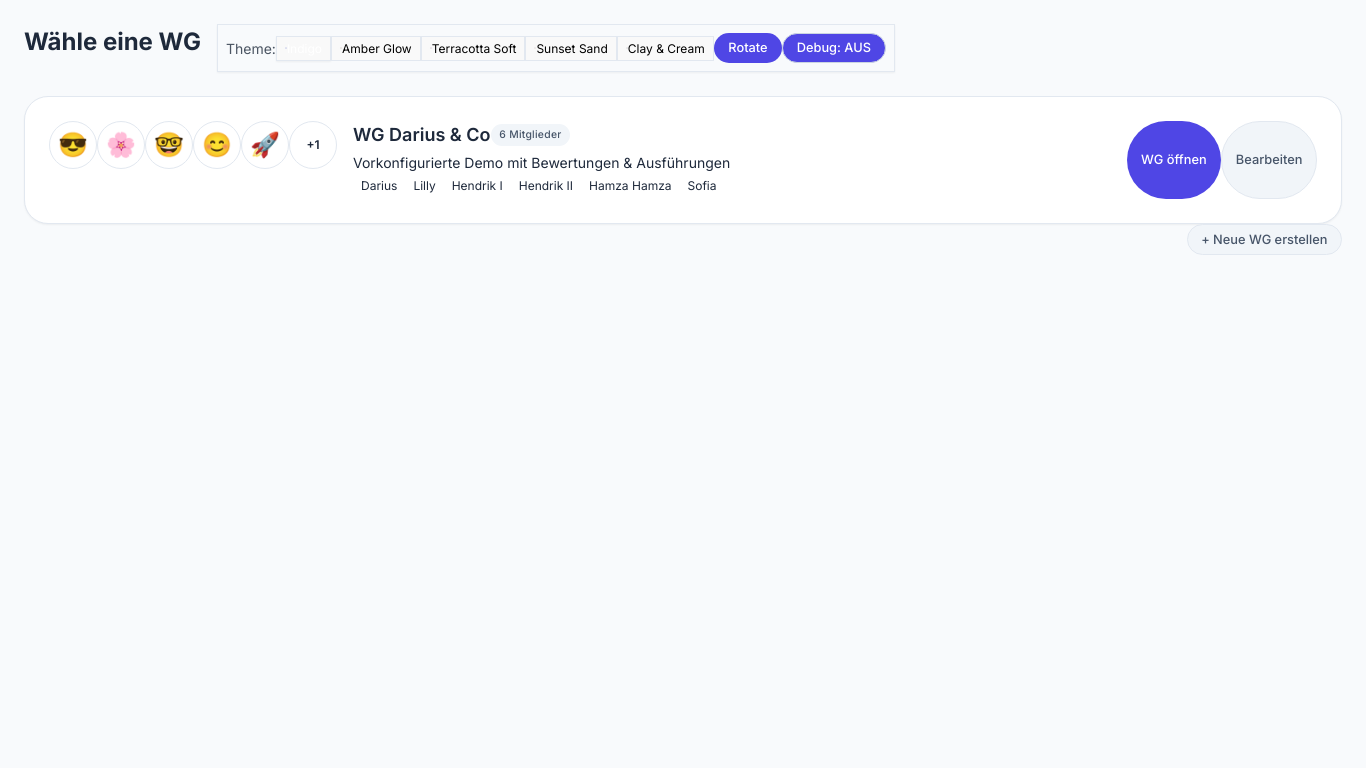
Profile Overview & Navigation Flow (WG zentriert) › öffnet Dashboard nach Klick auf WG öffnen
Click the button named "WG öffnen": [683, 160] box x1=24 y1=96 x2=1342 y2=224
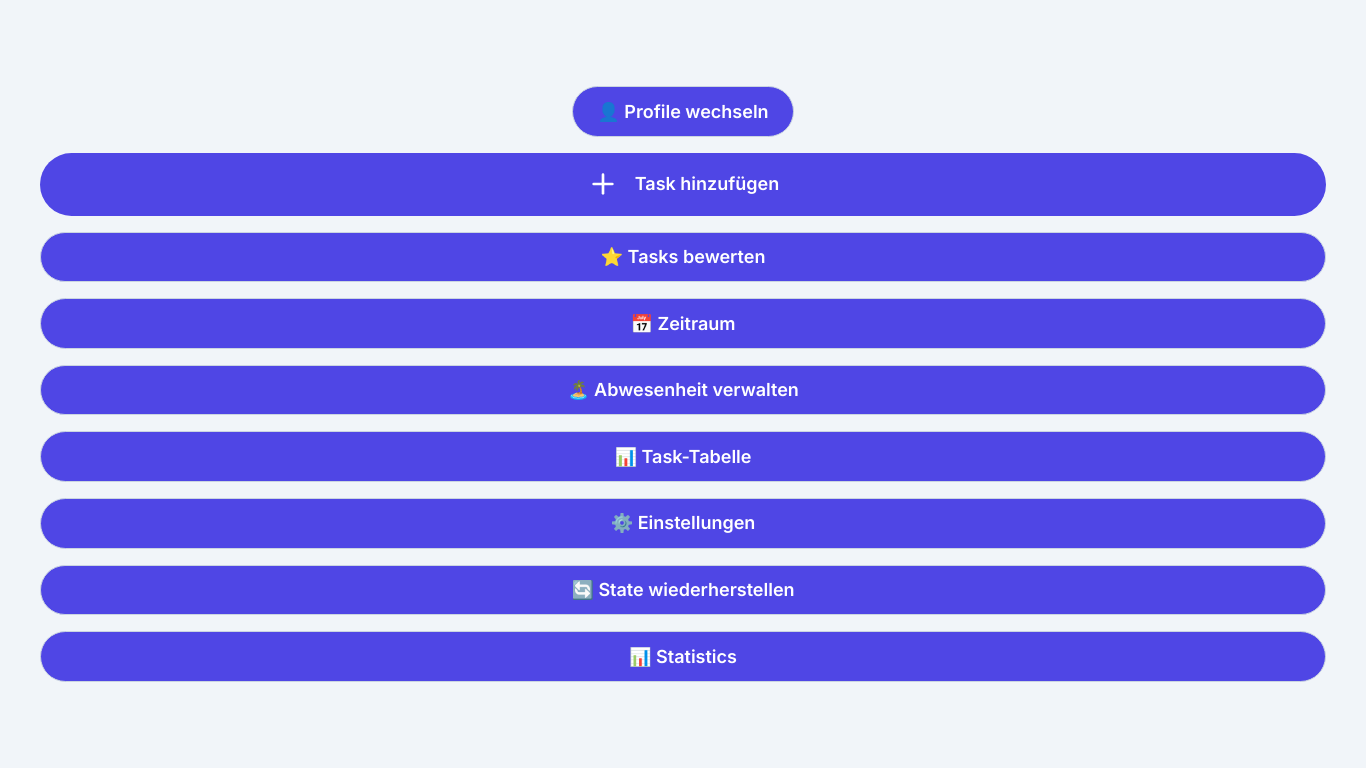
Now the button with test id "add-task-btn" is shown, box x1=40 y1=153 x2=1326 y2=216
